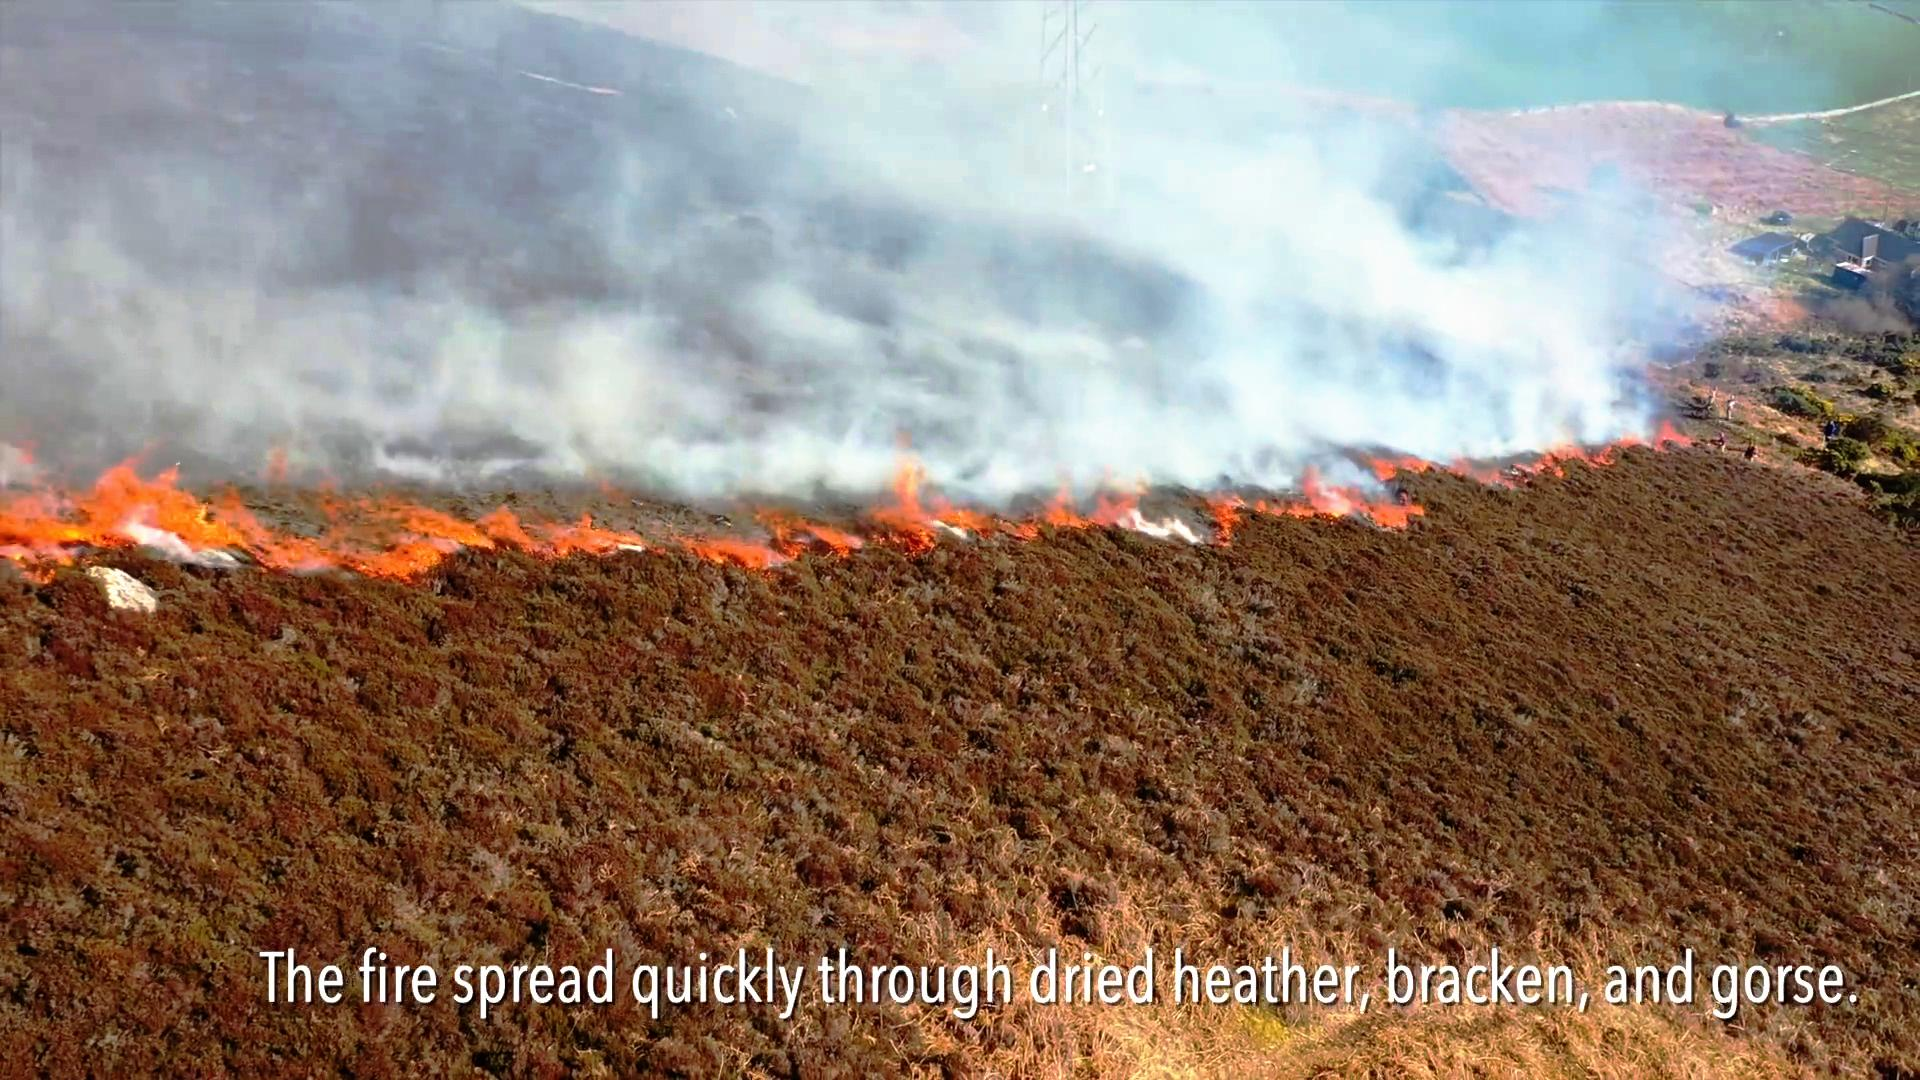fire: (0, 464, 233, 588), (243, 502, 500, 593), (880, 443, 977, 563), (1217, 484, 1425, 538), (509, 500, 647, 571), (1047, 477, 1134, 531), (684, 529, 769, 579), (1369, 448, 1444, 480)
smoke: (0, 3, 1772, 524)
